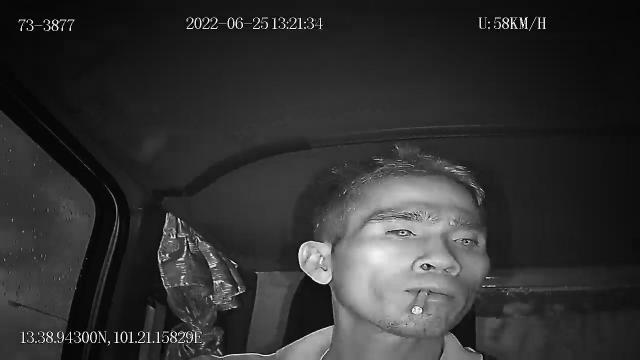SafeDriving: (375, 218, 427, 244), (446, 229, 484, 251)
Smoking: (410, 288, 430, 316)
